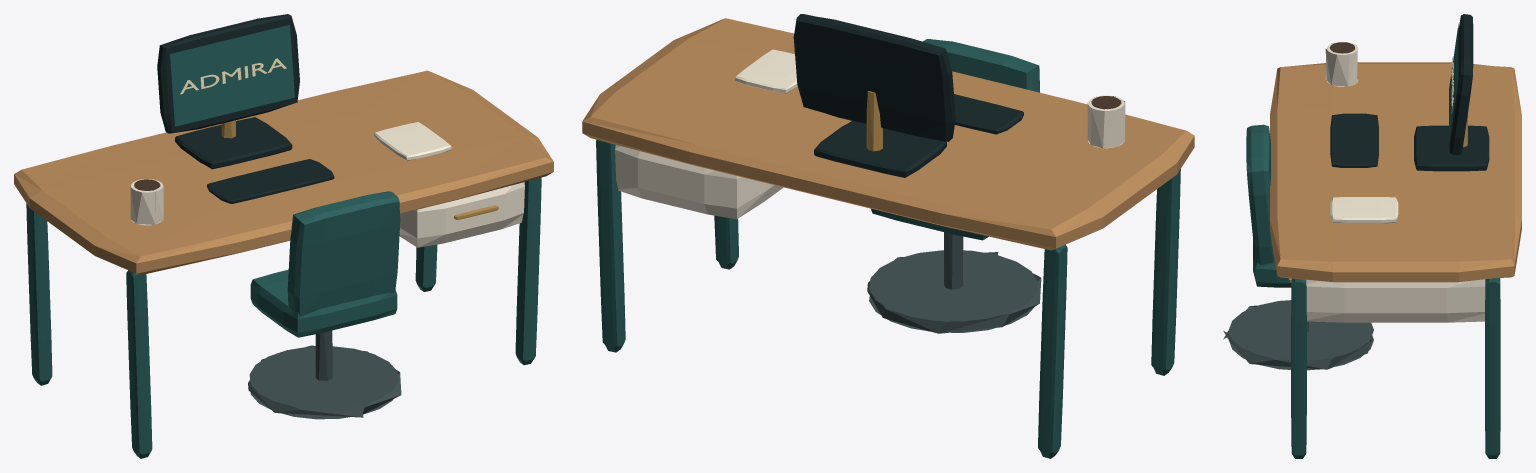
Rendered from better.glb.
3 views of the same model, side by side, from view 1: azimuth 30°, elevation 25°; view 2: azimuth 150°, elevation 25°; view 3: azimuth 270°, elevation 25° (orthographic). The views are drawn at different scales.
Parts seen in each view (by area): view 1: Native component 0, Native component 10, Native component 16, Native component 8, Native component 4, Native component 1, Native component 5, Sign ADMIRA; view 2: Native component 0, Native component 16, Native component 10, Native component 8, Native component 1, Native component 5, Native component 2; view 3: Native component 0, Native component 10, Native component 1, Native component 16, Native component 8, Native component 5, Native component 4.
Part boxes in pixels (bbox=[...]): Native component 0: bbox=[14, 70, 553, 275]; Native component 10: bbox=[26, 178, 541, 458]; Native component 16: bbox=[157, 14, 334, 203]; Native component 8: bbox=[248, 330, 401, 419]; Native component 4: bbox=[170, 25, 294, 126]; Native component 1: bbox=[130, 178, 524, 247]; Native component 5: bbox=[374, 122, 451, 160]; Sign ADMIRA: bbox=[180, 58, 286, 94]; Native component 0: bbox=[582, 18, 1194, 250]; Native component 16: bbox=[793, 14, 1023, 177]; Native component 10: bbox=[596, 39, 1180, 458]; Native component 8: bbox=[867, 232, 1041, 333]; Native component 1: bbox=[615, 95, 1125, 219]; Native component 5: bbox=[735, 49, 797, 93]; Native component 2: bbox=[866, 91, 882, 151]; Native component 0: bbox=[1270, 62, 1521, 282]; Native component 10: bbox=[1246, 124, 1500, 458]; Native component 1: bbox=[1306, 41, 1485, 322]; Native component 16: bbox=[1330, 14, 1489, 171]; Native component 8: bbox=[1223, 300, 1373, 370]; Native component 5: bbox=[1330, 197, 1398, 223]; Native component 4: bbox=[1449, 23, 1458, 144].
Size of the model in its own units: 2.05 by 1.43 by 1.23.
